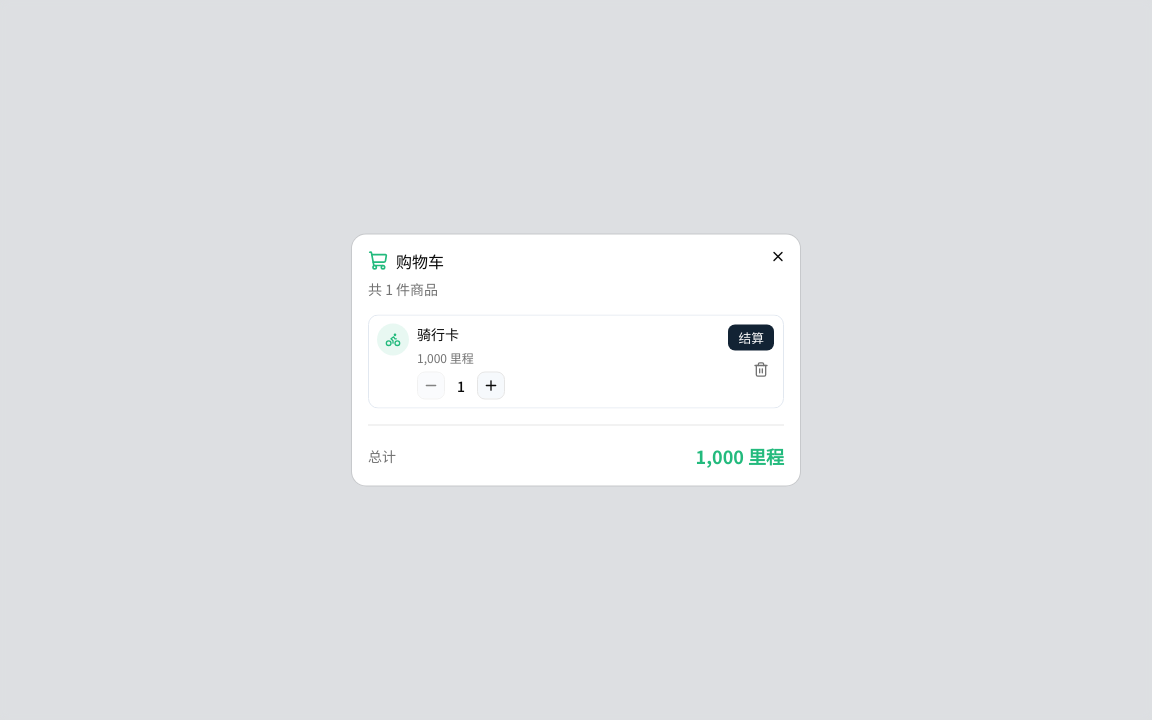
Test: CartDialog catalog reconciliation › closes an open confirmation when reconciliation removes the item
Click the button "结算". click: [751, 338]
box: [727,324,775,352]
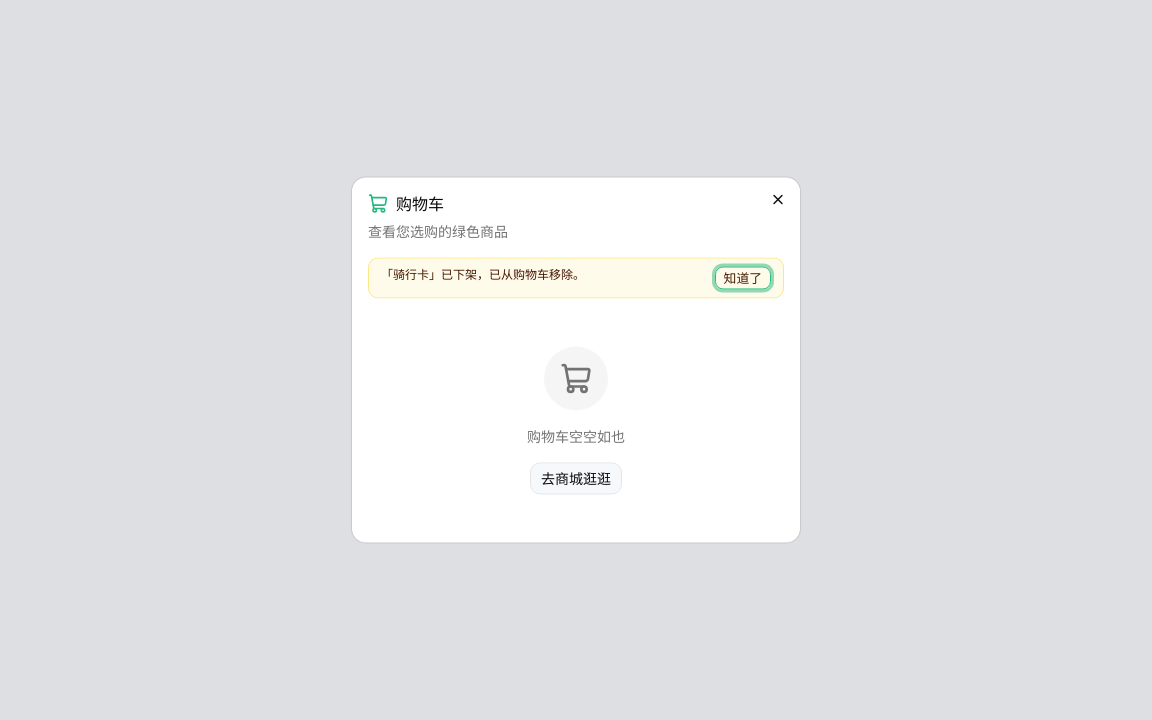
Expected: the heading named "确认兑换" is shown, [368,192,444,216]
Expected: the text "「骑行卡」已下架，已从购物车移除。" is shown, [381,266,585,282]
